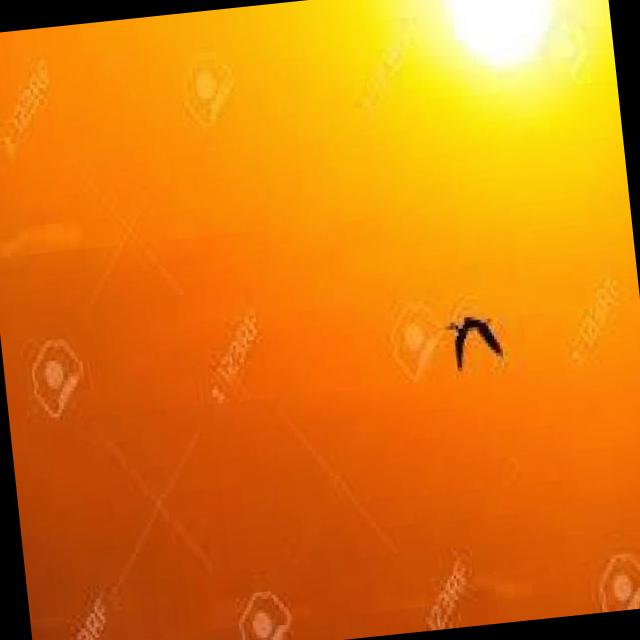bird: (444, 308, 508, 377)
